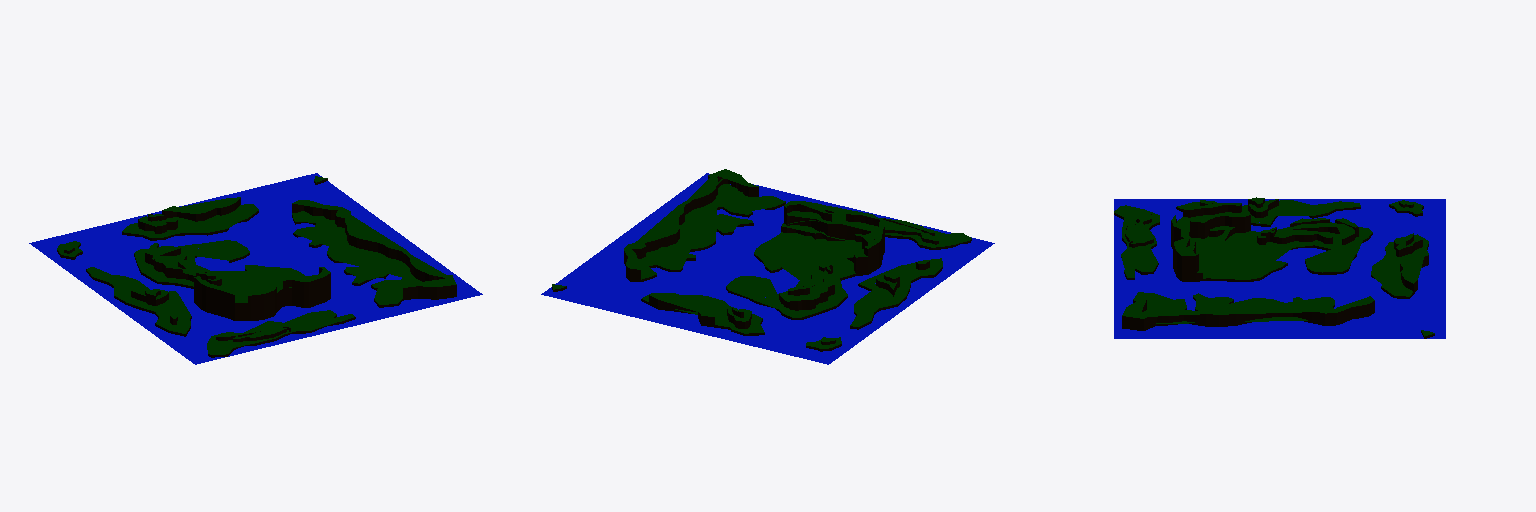
The model's file is Map_01.obj.
3 renders of one model, left to right at view 1: azimuth 30°, elevation 25°; view 2: azimuth 150°, elevation 25°; view 3: azimuth 270°, elevation 25°, orthographic.
Parts seen in each view (by area): view 1: Plane; view 2: Plane; view 3: Plane.
Part boxes in pixels (left/top/right/bottom): Plane: left=29, top=173, right=482, bottom=364; Plane: left=541, top=169, right=994, bottom=364; Plane: left=1114, top=197, right=1445, bottom=338.
Size of the model in its own units: 600 by 51.51 by 600.